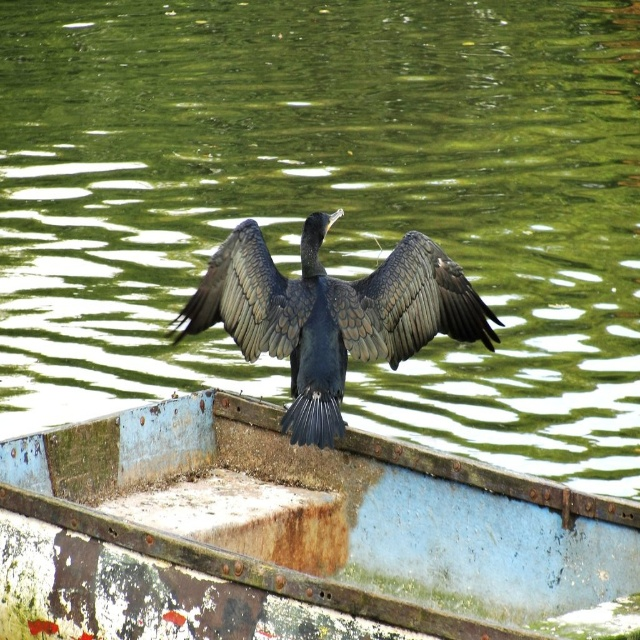Duck: (213, 202, 443, 408)
